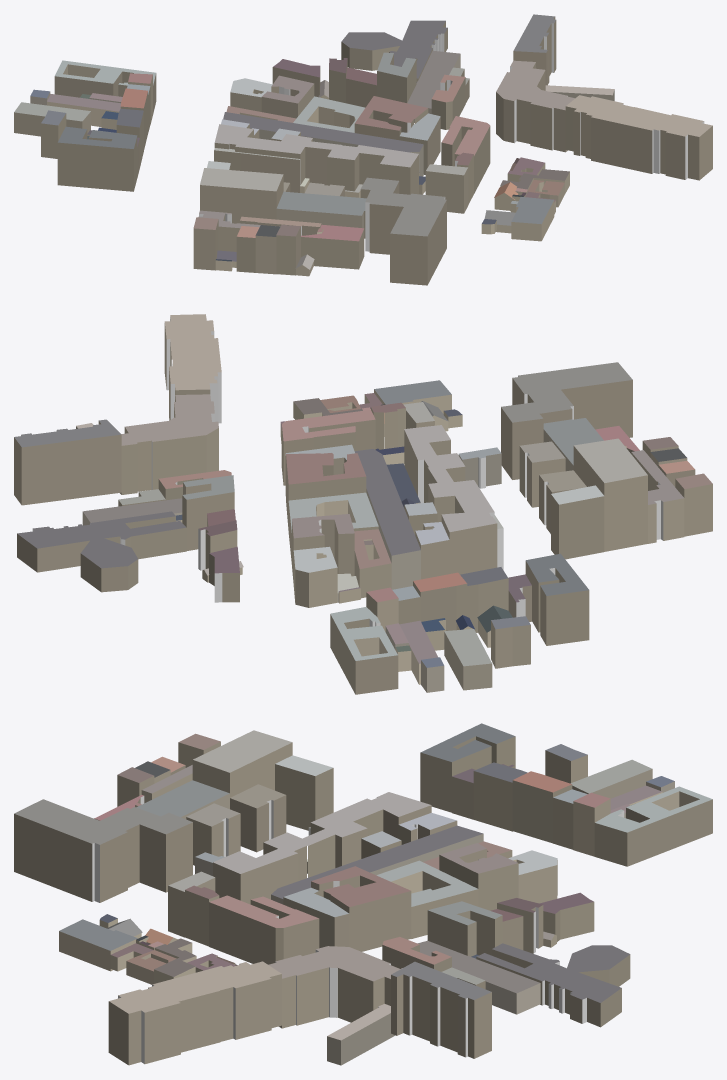
3 views of the same model, one above another, from view 1: azimuth 30°, elevation 25°; view 2: azimuth 150°, elevation 25°; view 3: azimuth 270°, elevation 25° (orthographic). The views are drawn at different scales.
Parts seen in each view (by area): view 1: tuile; view 2: tuile; view 3: tuile.
Boxes of the visible parts, x1,y1,x2,y2 form: tuile: [14, 14, 712, 285]; tuile: [14, 314, 712, 694]; tuile: [14, 723, 712, 1065].
Size of the model in its own units: 261 by 30.65 by 263.
